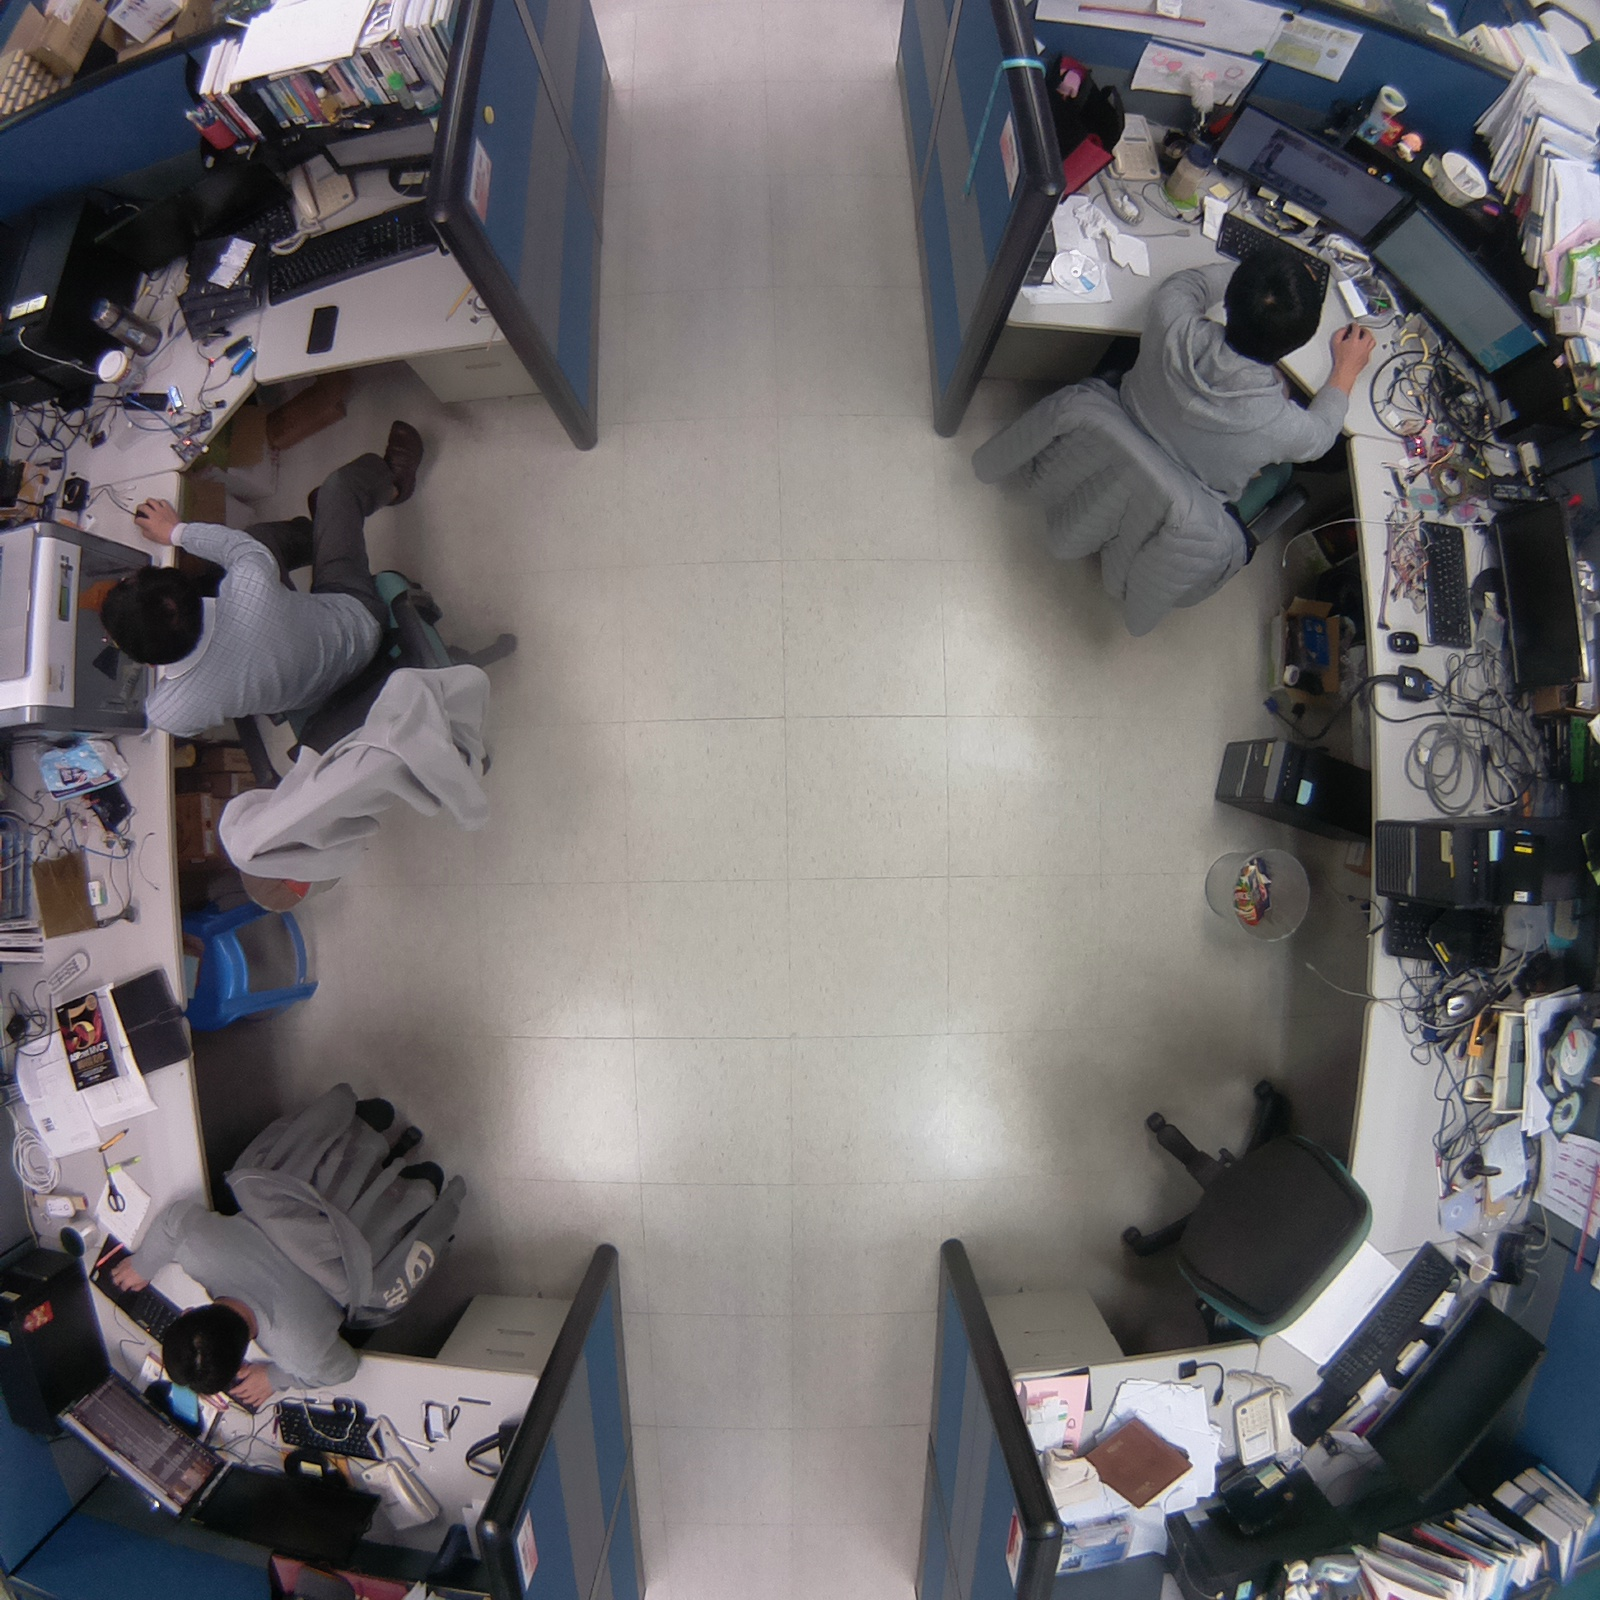chair: (1100, 1062, 1389, 1361)
sitting: (92, 401, 532, 911), (947, 236, 1401, 651), (89, 1067, 478, 1426)
